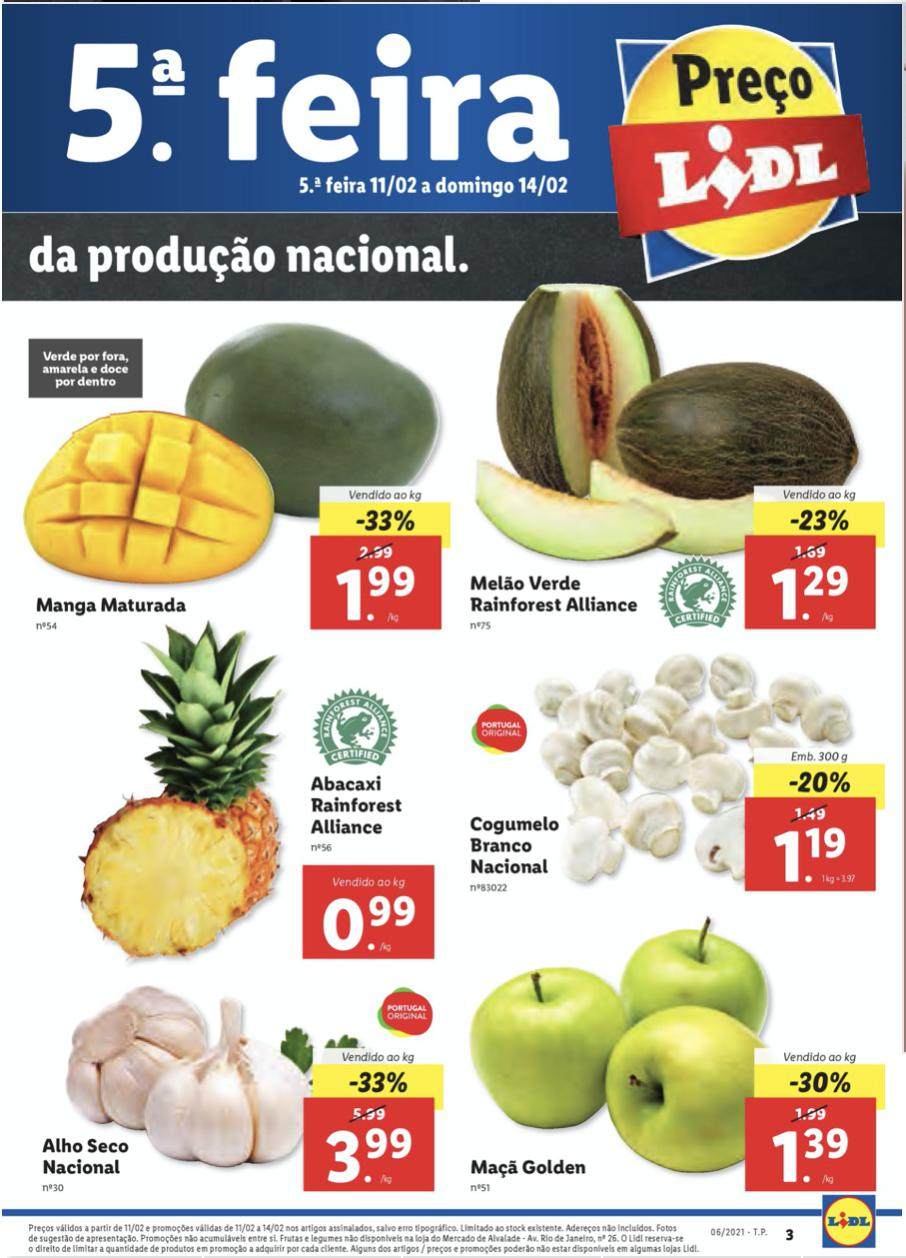name: (470, 567, 642, 615), (304, 770, 409, 840), (468, 809, 562, 880), (32, 590, 195, 622), (35, 1137, 131, 1183), (465, 1156, 593, 1184)
price: (320, 1120, 421, 1189), (317, 890, 420, 956), (773, 822, 863, 892), (331, 564, 428, 628), (771, 559, 856, 625), (771, 1122, 854, 1189)
product: (460, 265, 882, 639), (18, 314, 449, 648), (17, 637, 451, 958), (460, 905, 888, 1208), (460, 637, 906, 905), (17, 958, 451, 1201)
promotion: (345, 506, 423, 537), (343, 1064, 412, 1098), (782, 767, 854, 798), (782, 1069, 854, 1097), (788, 506, 851, 534)
